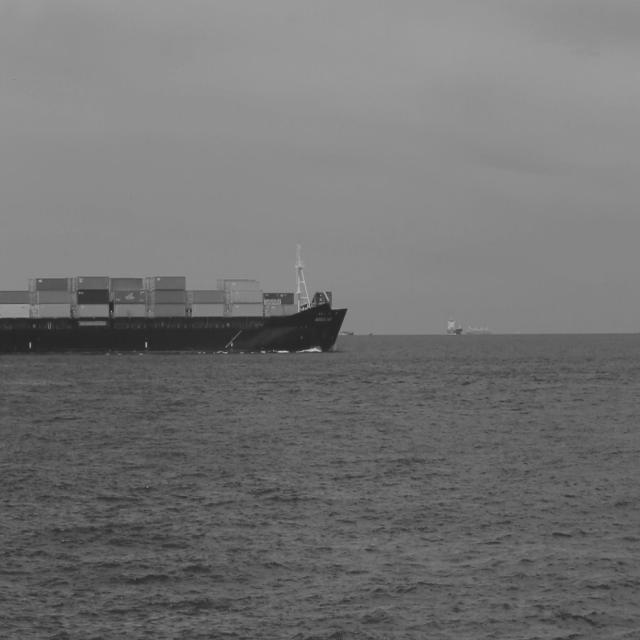ship: (0, 242, 351, 353), (442, 315, 462, 335)
